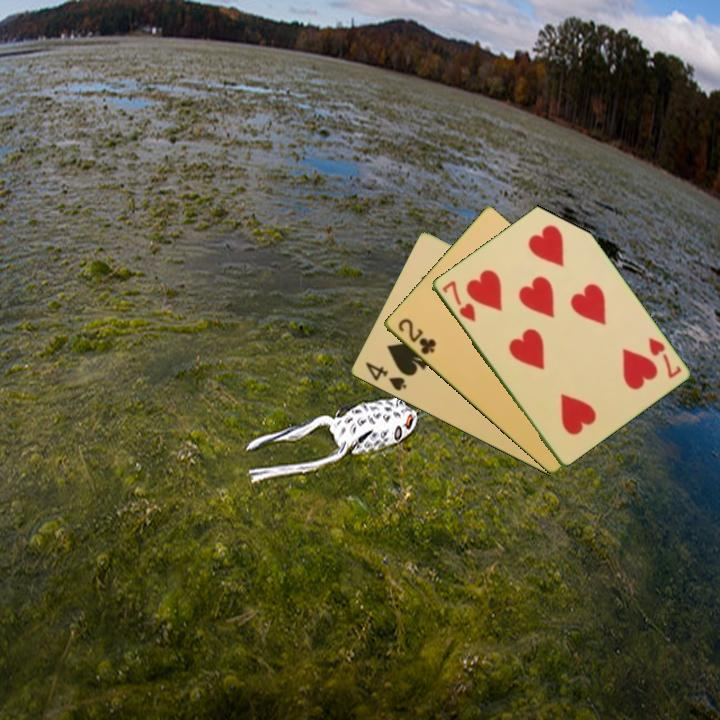2c: (394, 315, 439, 358)
4s: (361, 358, 409, 394)
7h: (438, 277, 478, 325), (644, 334, 684, 381)
